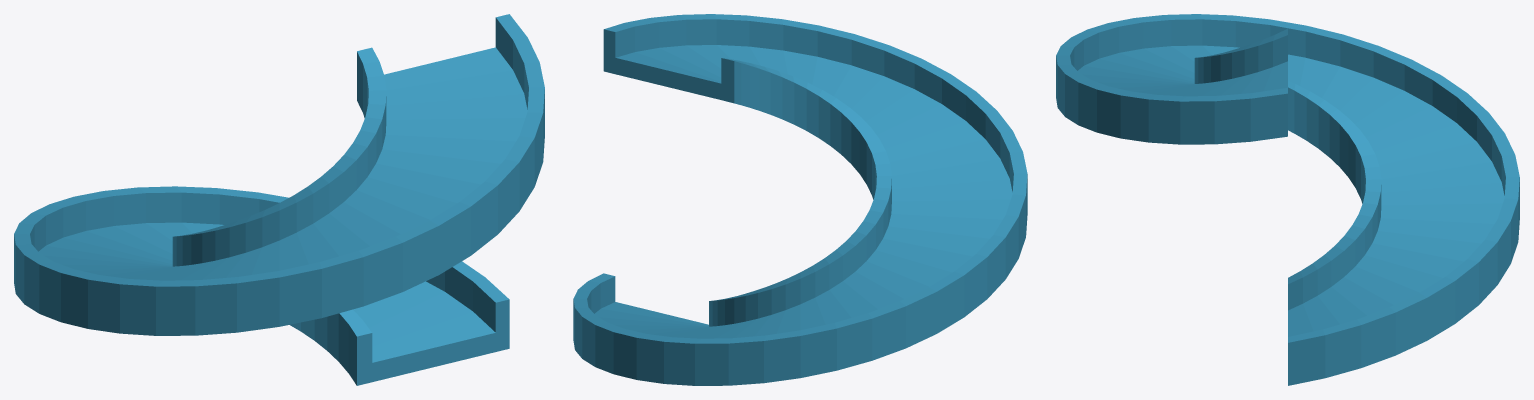
The model's file is Ramp.fbx.
3 views of the same model, side by side, from view 1: azimuth 30°, elevation 25°; view 2: azimuth 150°, elevation 25°; view 3: azimuth 270°, elevation 25° (orthographic). The views are drawn at different scales.
Parts seen in each view (by area): view 1: Ramp; view 2: Ramp; view 3: Ramp.
Part boxes in pixels (left/top/right/bottom): Ramp: left=14, top=14, right=544, bottom=385; Ramp: left=573, top=14, right=1027, bottom=385; Ramp: left=1056, top=14, right=1519, bottom=385.
Size of the model in its own units: 387 by 270 by 388.
